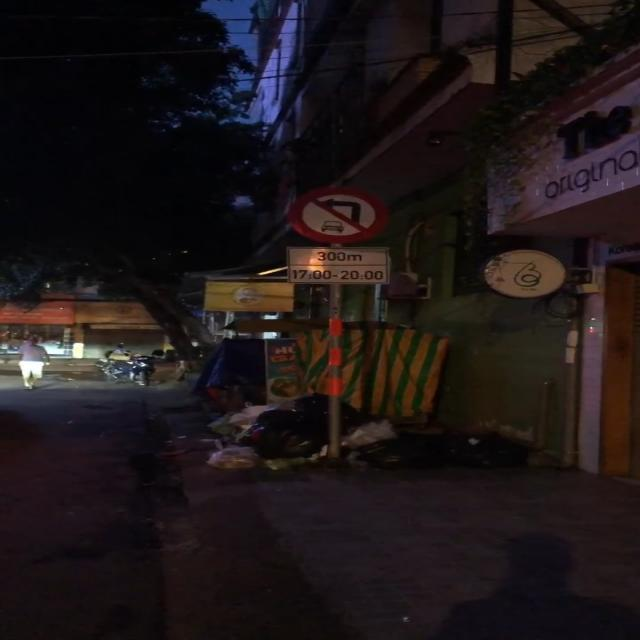Bien bao cam xe o to re trai: (282, 185, 386, 245)
